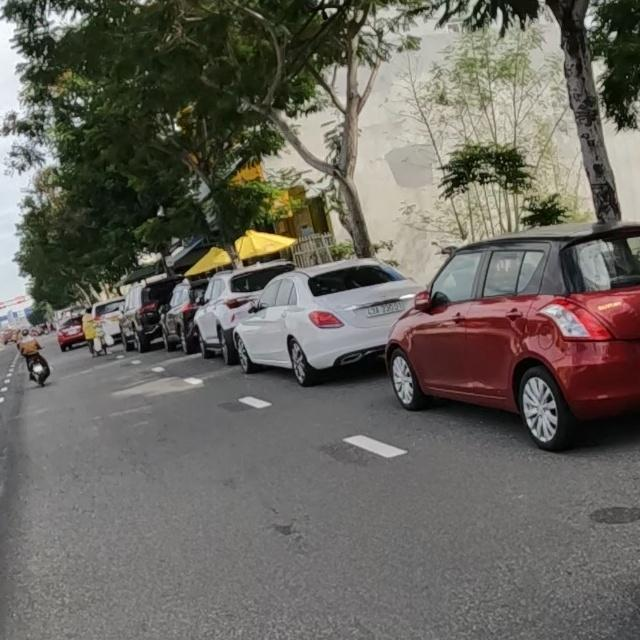license-plate: (366, 300, 404, 318)
